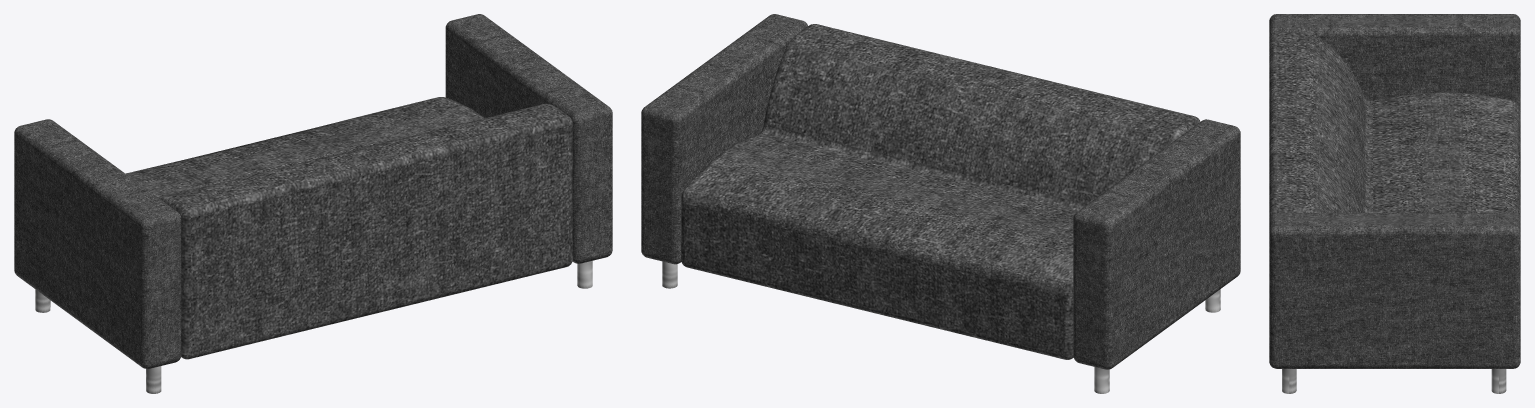
3 views of the same model, side by side, from view 1: azimuth 30°, elevation 25°; view 2: azimuth 150°, elevation 25°; view 3: azimuth 270°, elevation 25° (orthographic). The views are drawn at different scales.
Parts seen in each view (by area): view 1: 0fa35b32-195f-494f-a729-855cdff81c26; view 2: 0fa35b32-195f-494f-a729-855cdff81c26; view 3: 0fa35b32-195f-494f-a729-855cdff81c26.
Part boxes in pixels (x1,y1,x2,y2): 0fa35b32-195f-494f-a729-855cdff81c26: (14, 14, 612, 393); 0fa35b32-195f-494f-a729-855cdff81c26: (641, 14, 1240, 393); 0fa35b32-195f-494f-a729-855cdff81c26: (1269, 14, 1520, 393).
Bounding box in the file's own units: 70.88 × 26 × 34.63.
2 materials, 2 textured.
